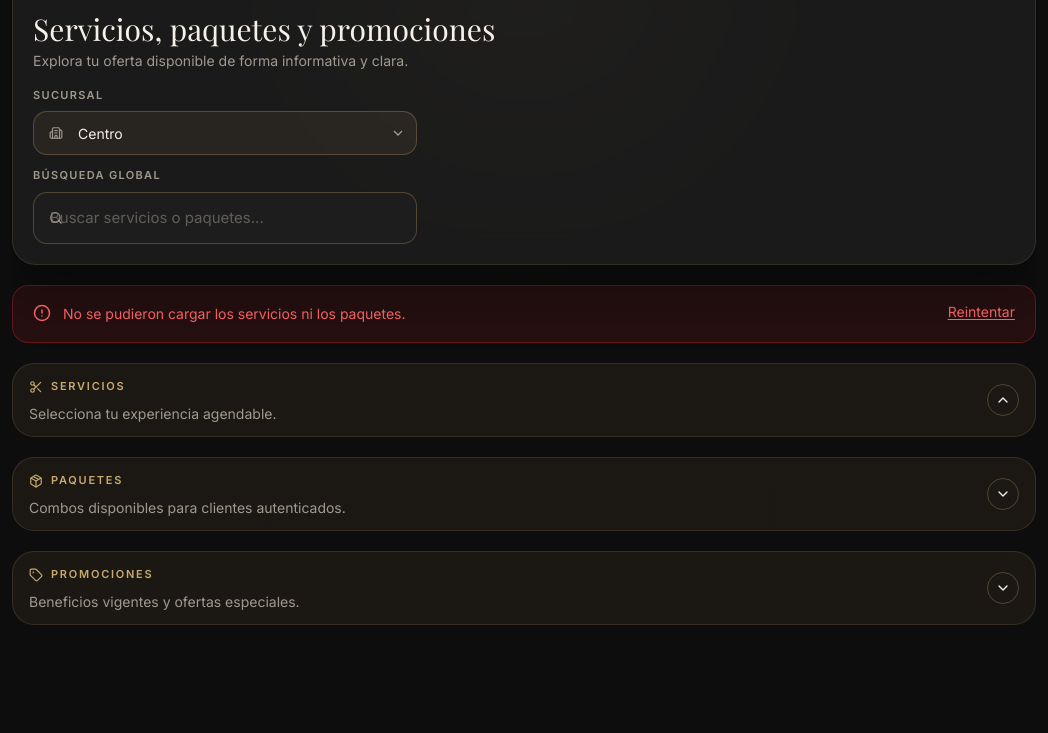
Test: ambos catalogos fallan con error seguro y Promociones conservadas
The width and height of the screenshot is (1048, 733).
Expected: the text "No se pudieron cargar los servicios ni los paquetes." is shown, x1=63 y1=304 x2=406 y2=322
Click the button "Promociones Beneficios vigentes y ofertas especiales.".
click(102, 574)  # box x1=12 y1=550 x2=1036 y2=624
(page scrolled)
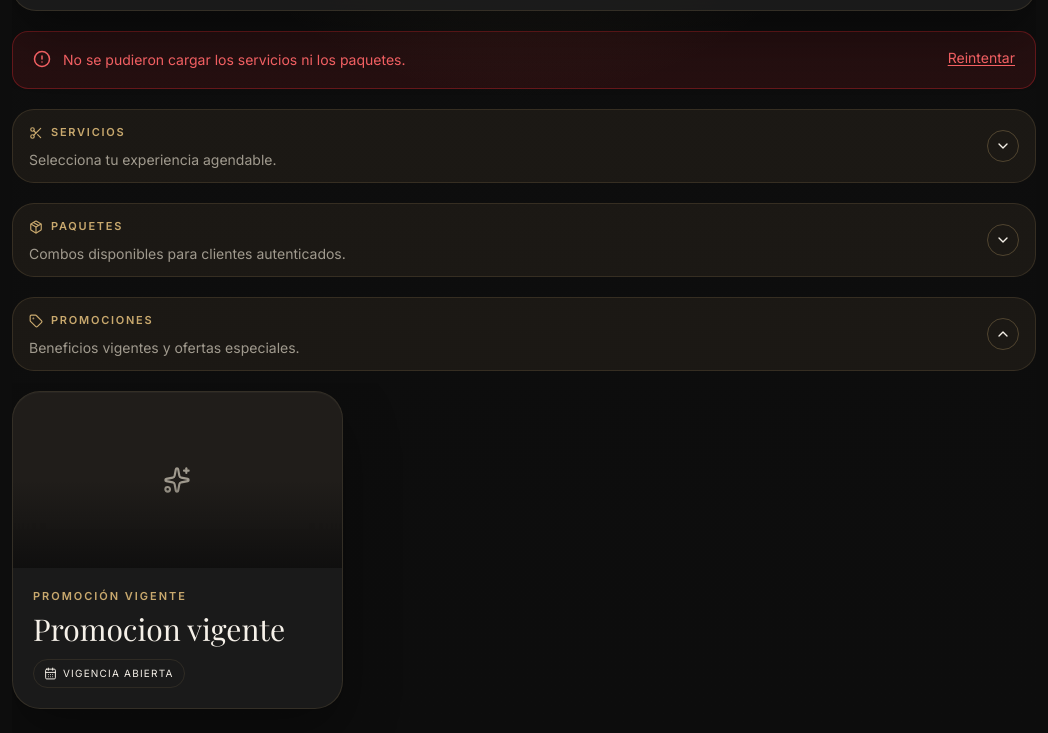
Expected: the heading "Promocion vigente" is shown, x1=33 y1=616 x2=322 y2=643
